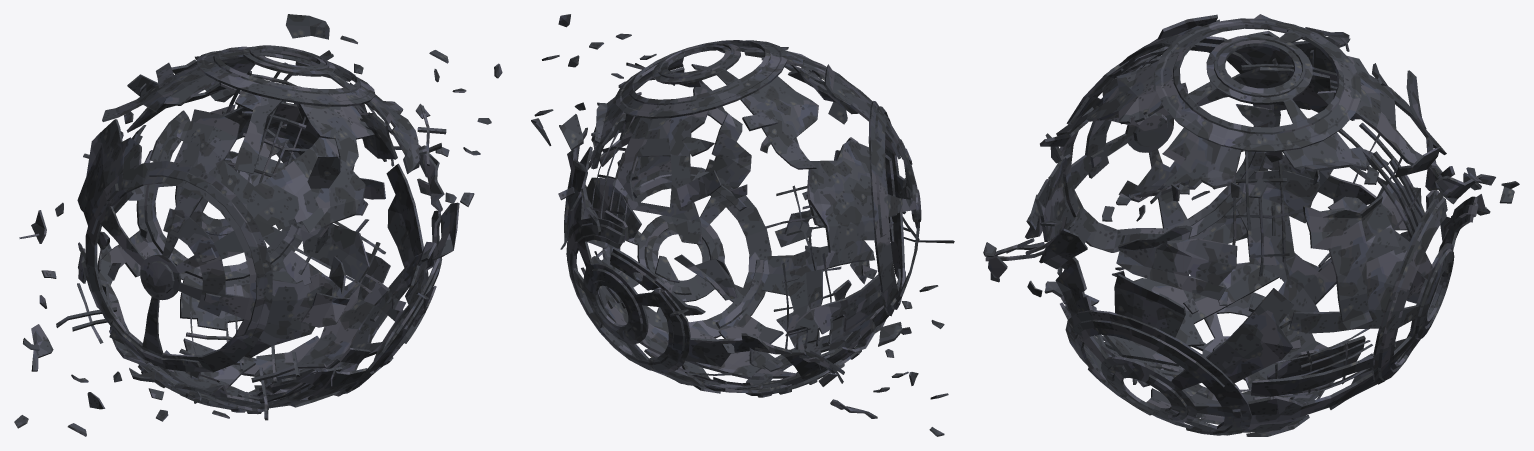
The model's file is SM_Env_Core_Shell_01.fbx.
3 views of the same model, side by side, from view 1: azimuth 30°, elevation 25°; view 2: azimuth 150°, elevation 25°; view 3: azimuth 270°, elevation 25° (orthographic). The views are drawn at different scales.
Parts seen in each view (by area): view 1: SM_Env_Core_Shell_01; view 2: SM_Env_Core_Shell_01; view 3: SM_Env_Core_Shell_01.
Part boxes in pixels (x1=…): SM_Env_Core_Shell_01: x1=14, y1=14, x2=502, y2=436; SM_Env_Core_Shell_01: x1=531, y1=14, x2=954, y2=436; SM_Env_Core_Shell_01: x1=983, y1=14, x2=1519, y2=436.
Size of the model in its own units: 128964 by 93566 by 119379.
